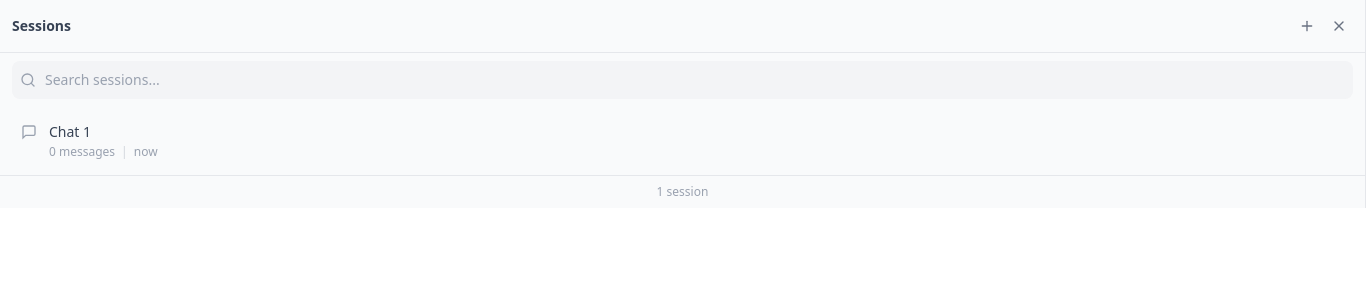
SessionSidebar › should show no matching sessions when search has no results
Step 1. Type "xyz" into the field labelled "Search sessions" → (682, 80), box x1=12 y1=61 x2=1353 y2=99
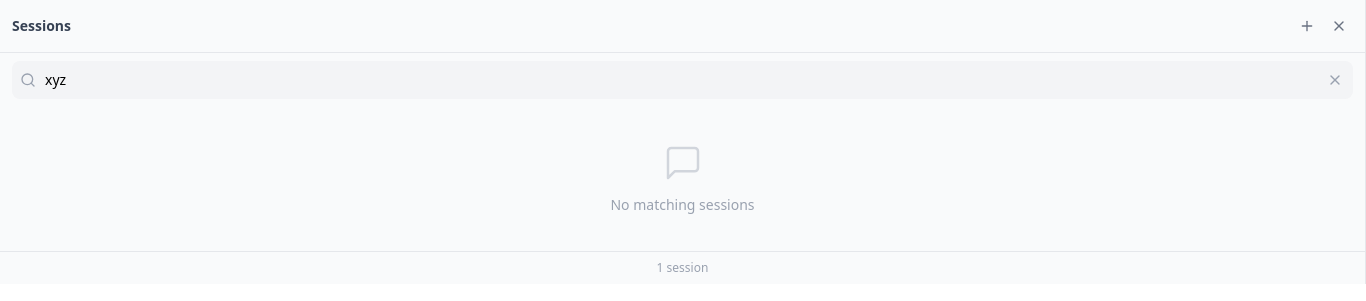
Result: the text "No matching sessions" is shown at x1=610 y1=195 x2=755 y2=215
